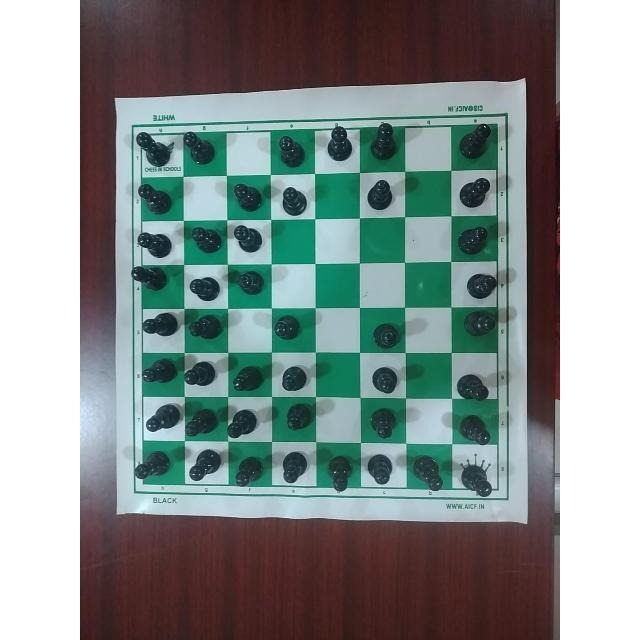black-pawn: (408, 451, 446, 493), (132, 224, 176, 260), (458, 458, 494, 502), (454, 409, 493, 448), (457, 120, 495, 160), (455, 308, 500, 341), (134, 131, 173, 169), (140, 401, 182, 436), (274, 357, 310, 397), (321, 124, 355, 166), (134, 179, 173, 215), (182, 356, 221, 392), (185, 448, 221, 487), (274, 132, 309, 172), (229, 357, 266, 394), (182, 130, 218, 168), (187, 223, 225, 259), (322, 452, 353, 496), (140, 358, 180, 392), (453, 368, 492, 402), (133, 451, 172, 485), (128, 264, 169, 296), (457, 174, 493, 210), (276, 181, 311, 217), (279, 400, 314, 436), (364, 405, 400, 439), (232, 453, 266, 489), (362, 176, 395, 213), (187, 311, 225, 343), (141, 310, 180, 341), (277, 449, 308, 488), (457, 221, 493, 254), (368, 123, 400, 160), (460, 269, 499, 299), (232, 180, 266, 213), (366, 363, 399, 397), (228, 407, 263, 439), (187, 407, 223, 437), (365, 448, 393, 486), (368, 319, 400, 351), (231, 223, 264, 254), (271, 313, 302, 346), (188, 274, 222, 302), (234, 268, 266, 297)
